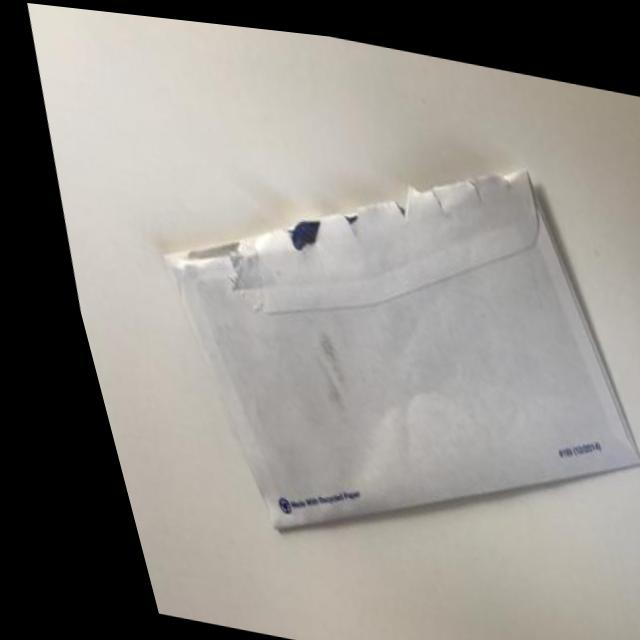paper: (36, 63, 640, 640)
